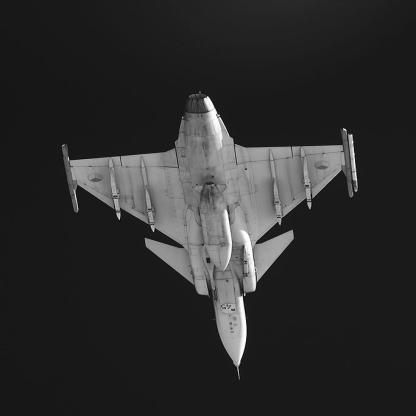JAS39: (63, 91, 360, 382)
